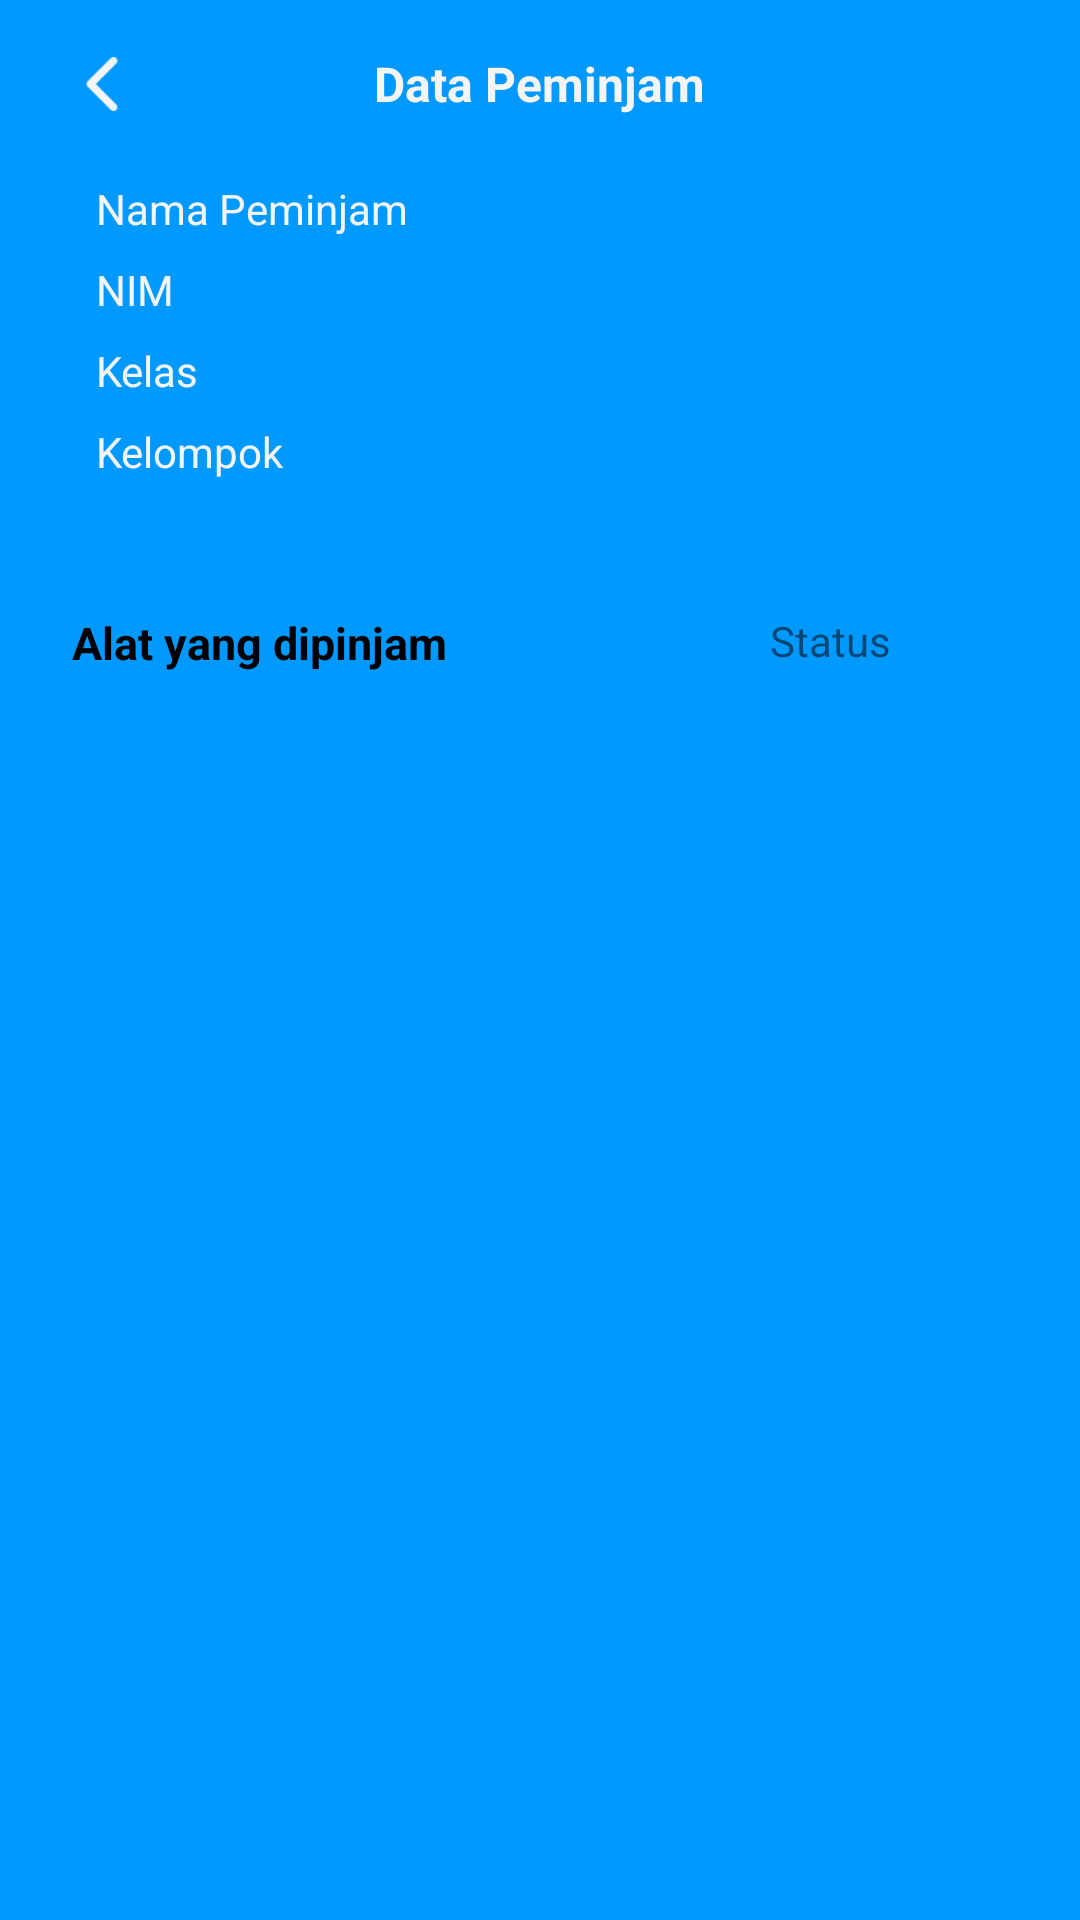

Icon click points for this 1080px x 1920px phone screenshot, format [x,y]:
arrow back: [102,84]
